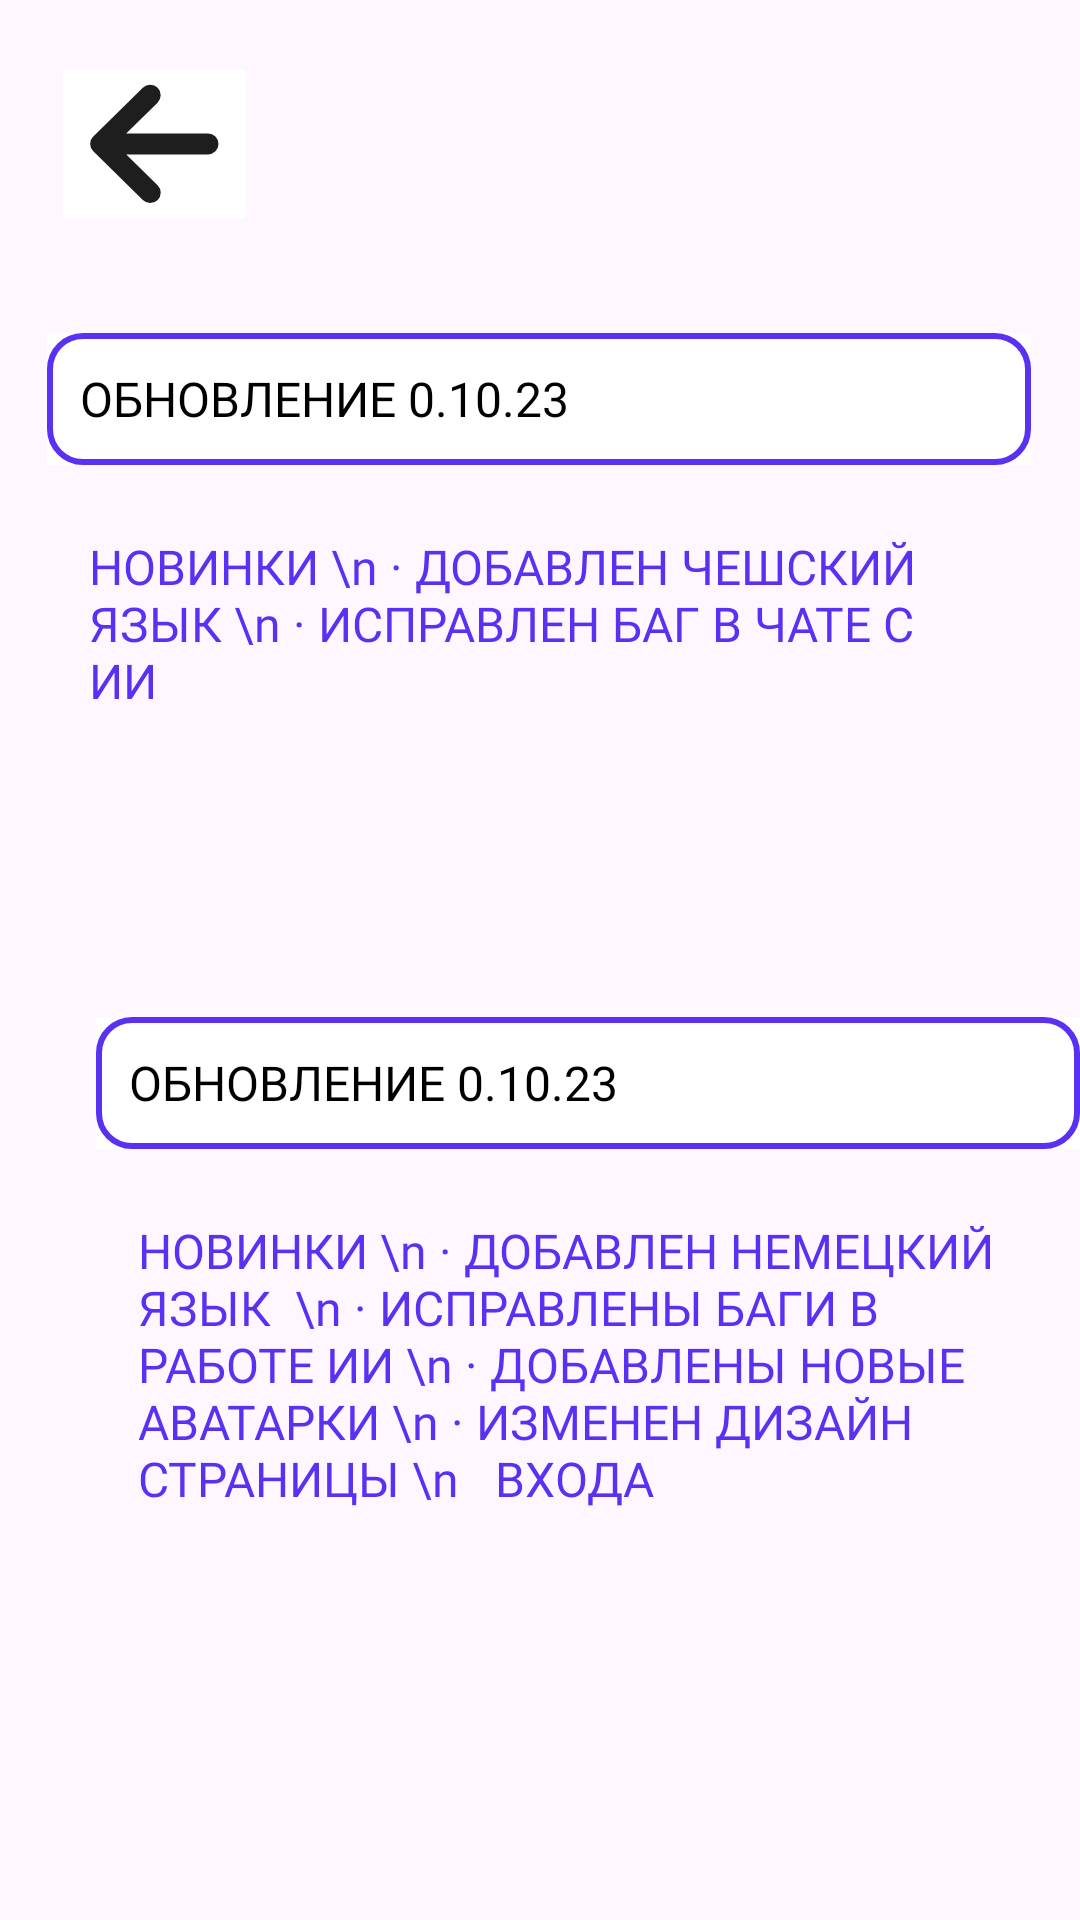

Where icons sit on this 1080 x 1920 app screen, as (x1, y1, x2, y2):
ion arrow back: (90, 84, 219, 203)
